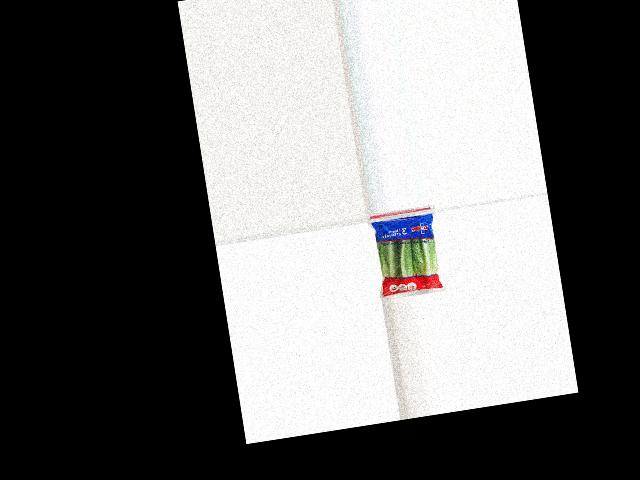lettuce: (370, 209, 447, 300)
